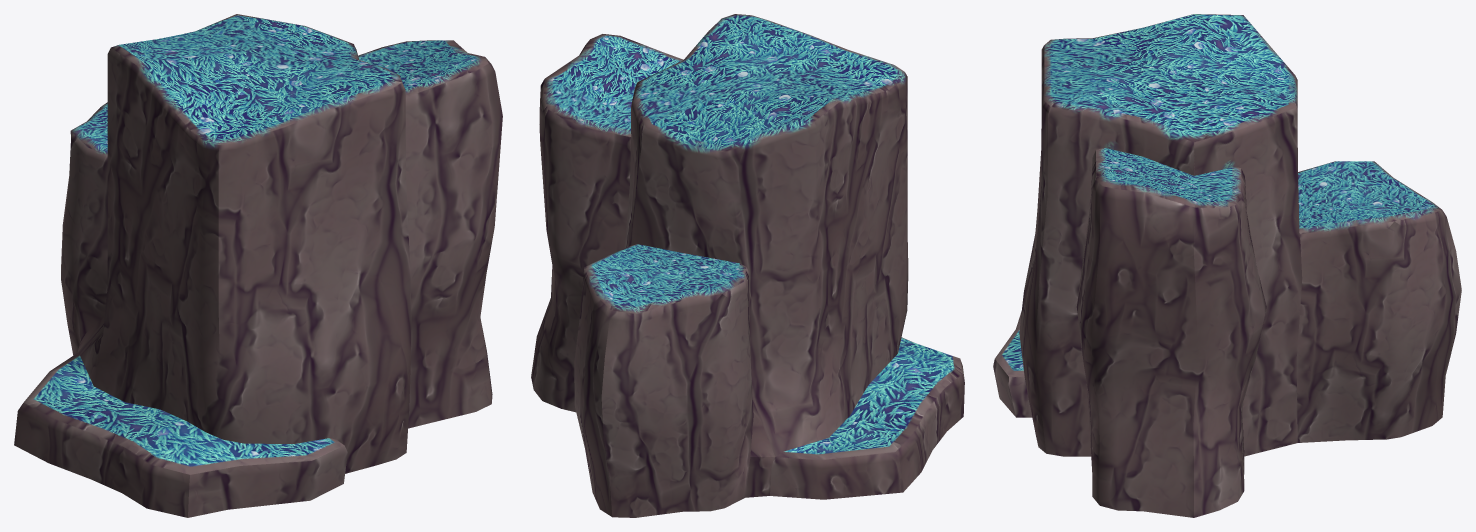
File: rocklandscape1.fbx
3 views of the same model, side by side, from view 1: azimuth 30°, elevation 25°; view 2: azimuth 150°, elevation 25°; view 3: azimuth 270°, elevation 25° (orthographic). The views are drawn at different scales.
Visible parts, largest first — view 1: polySurface5; view 2: polySurface5; view 3: polySurface5.
Boxes of the visible parts, x1,y1,x2,y2 form: polySurface5: (14,14,502,517); polySurface5: (531,14,964,517); polySurface5: (993,14,1461,517).
Bounding box in the file's own units: 8.97 × 7.67 × 9.1.
